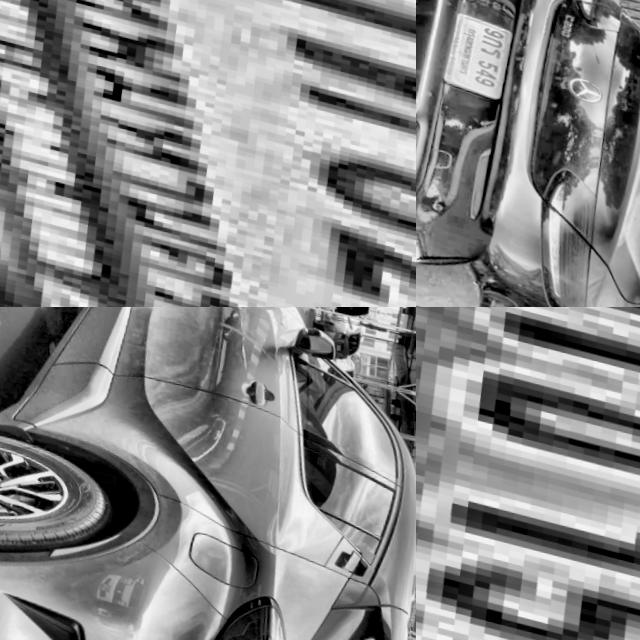license-plate: (0, 0, 416, 307), (416, 307, 640, 640), (437, 4, 517, 98)
